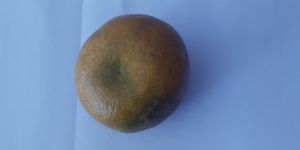BAD: (75, 14, 190, 133)
